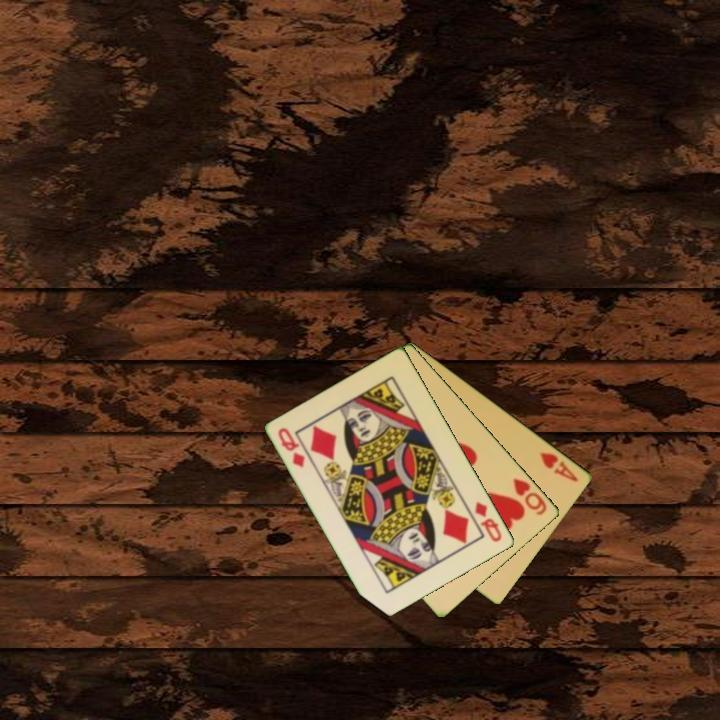6h: (510, 474, 550, 518)
Ah: (537, 448, 581, 485)
Qd: (472, 498, 505, 545), (275, 424, 308, 471)
